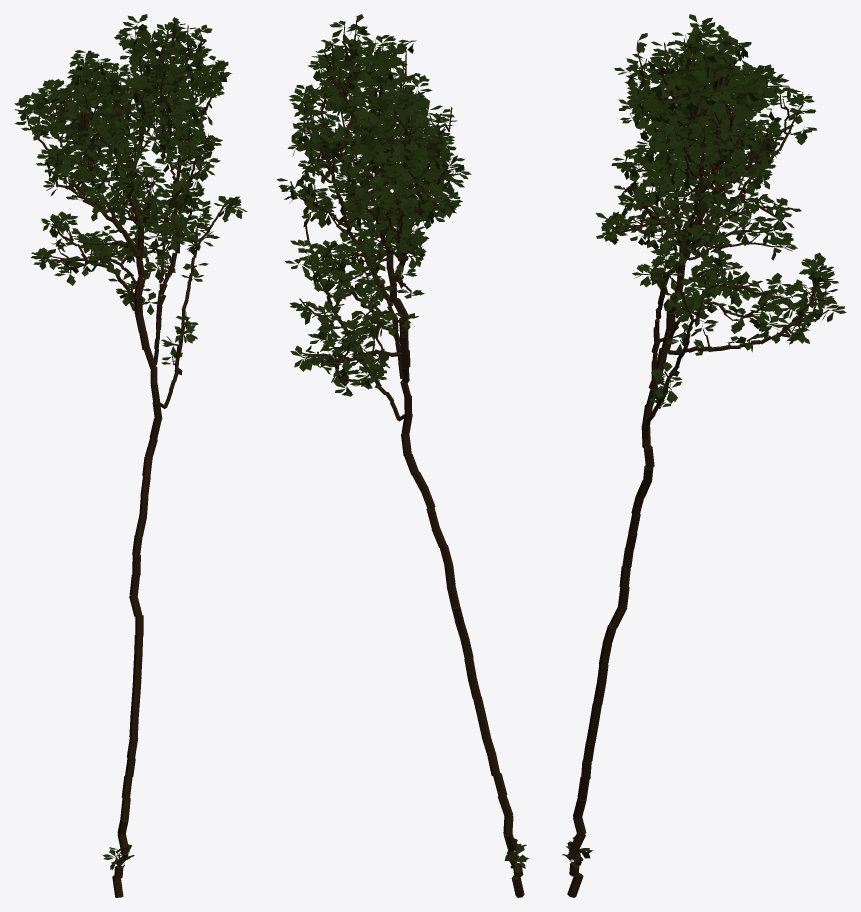
File: tree_339.obj
3 renders of one model, left to right at view 1: azimuth 30°, elevation 25°; view 2: azimuth 150°, elevation 25°; view 3: azimuth 270°, elevation 25°, orthographic. The views are drawn at different scales.
Parts seen in each view (by area): view 1: Leaves, TrunkAndBranches; view 2: Leaves, TrunkAndBranches; view 3: Leaves, TrunkAndBranches.
Part boxes in pixels (x1,y1,x2,y2): Leaves: (14,14,247,870); TrunkAndBranches: (22,20,240,897); Leaves: (276,14,529,873); TrunkAndBranches: (290,20,524,897); Leaves: (562,14,846,859); TrunkAndBranches: (567,23,834,897).
Bounding box in the file's own units: 4.88 × 20.78 × 5.91.
